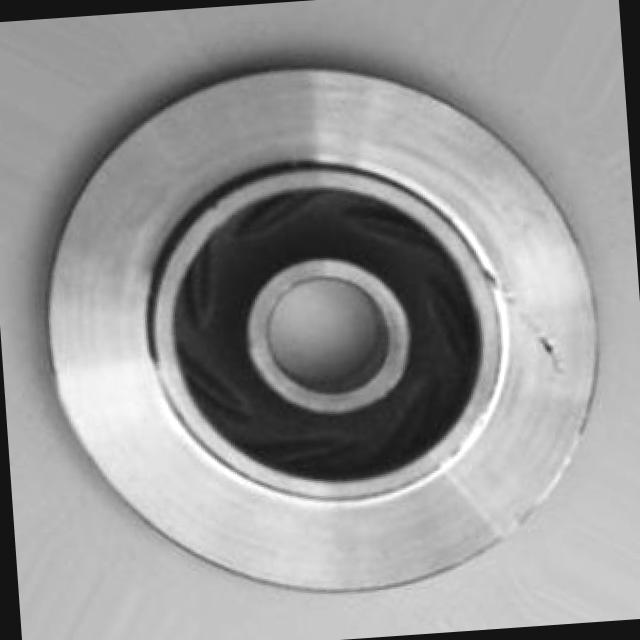Defect: (523, 321, 572, 377)
